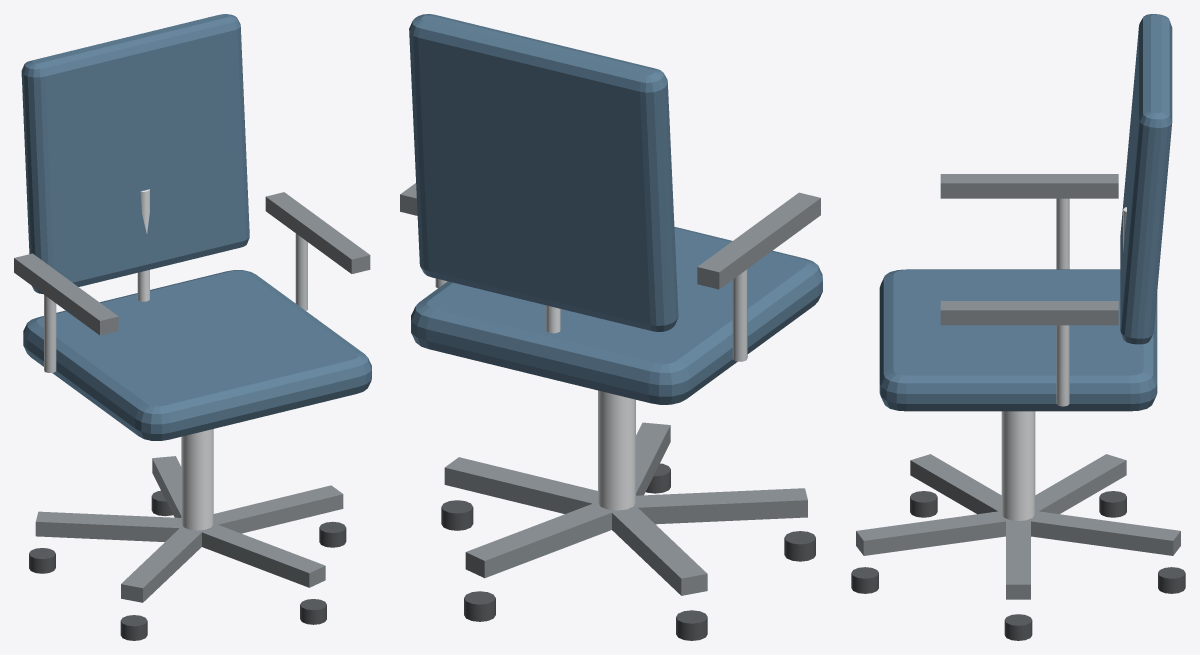
The model's file is doctor_chair.glb.
3 views of the same model, side by side, from view 1: azimuth 30°, elevation 25°; view 2: azimuth 150°, elevation 25°; view 3: azimuth 270°, elevation 25° (orthographic). The views are drawn at different scales.
Parts seen in each view (by area): view 1: doctor_chair; view 2: doctor_chair; view 3: doctor_chair.
Boxes of the visible parts, left/top/right/bottom form: doctor_chair: left=14, top=14, right=371, bottom=640; doctor_chair: left=400, top=14, right=822, bottom=640; doctor_chair: left=851, top=14, right=1185, bottom=640.
Size of the model in its own units: 0.605 by 1 by 0.6016.
